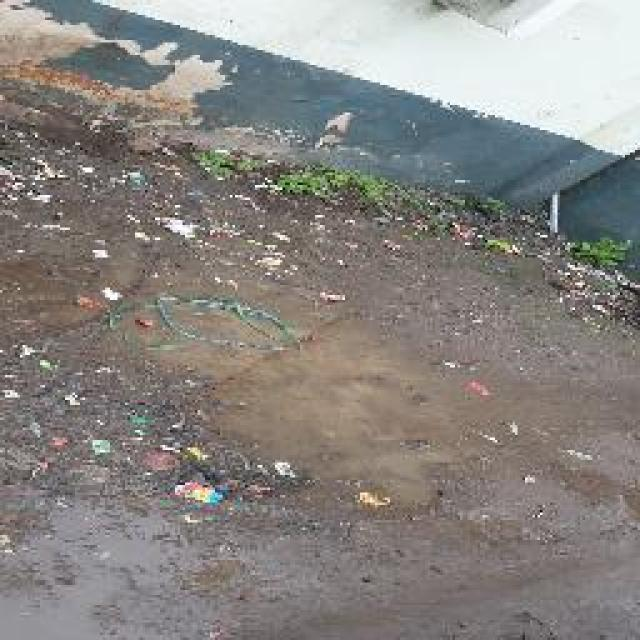stagnation: (137, 364, 640, 511)
